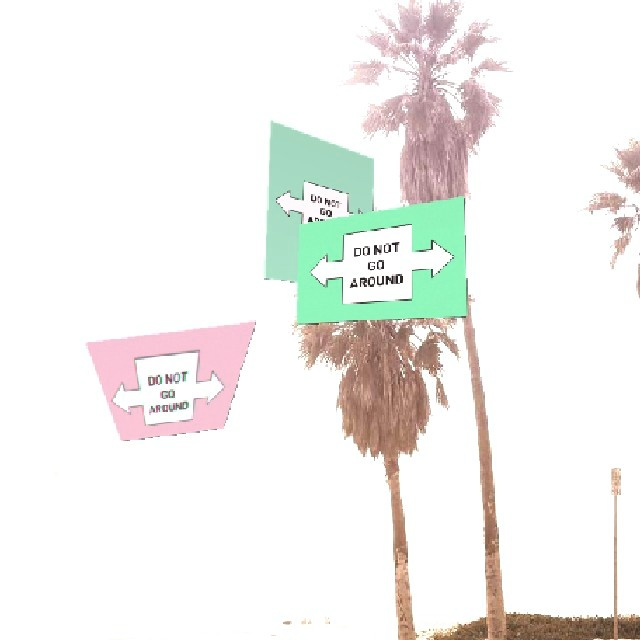DO_NOT_GO_AROUND: (307, 216, 454, 306), (98, 345, 234, 428), (270, 171, 372, 245)
